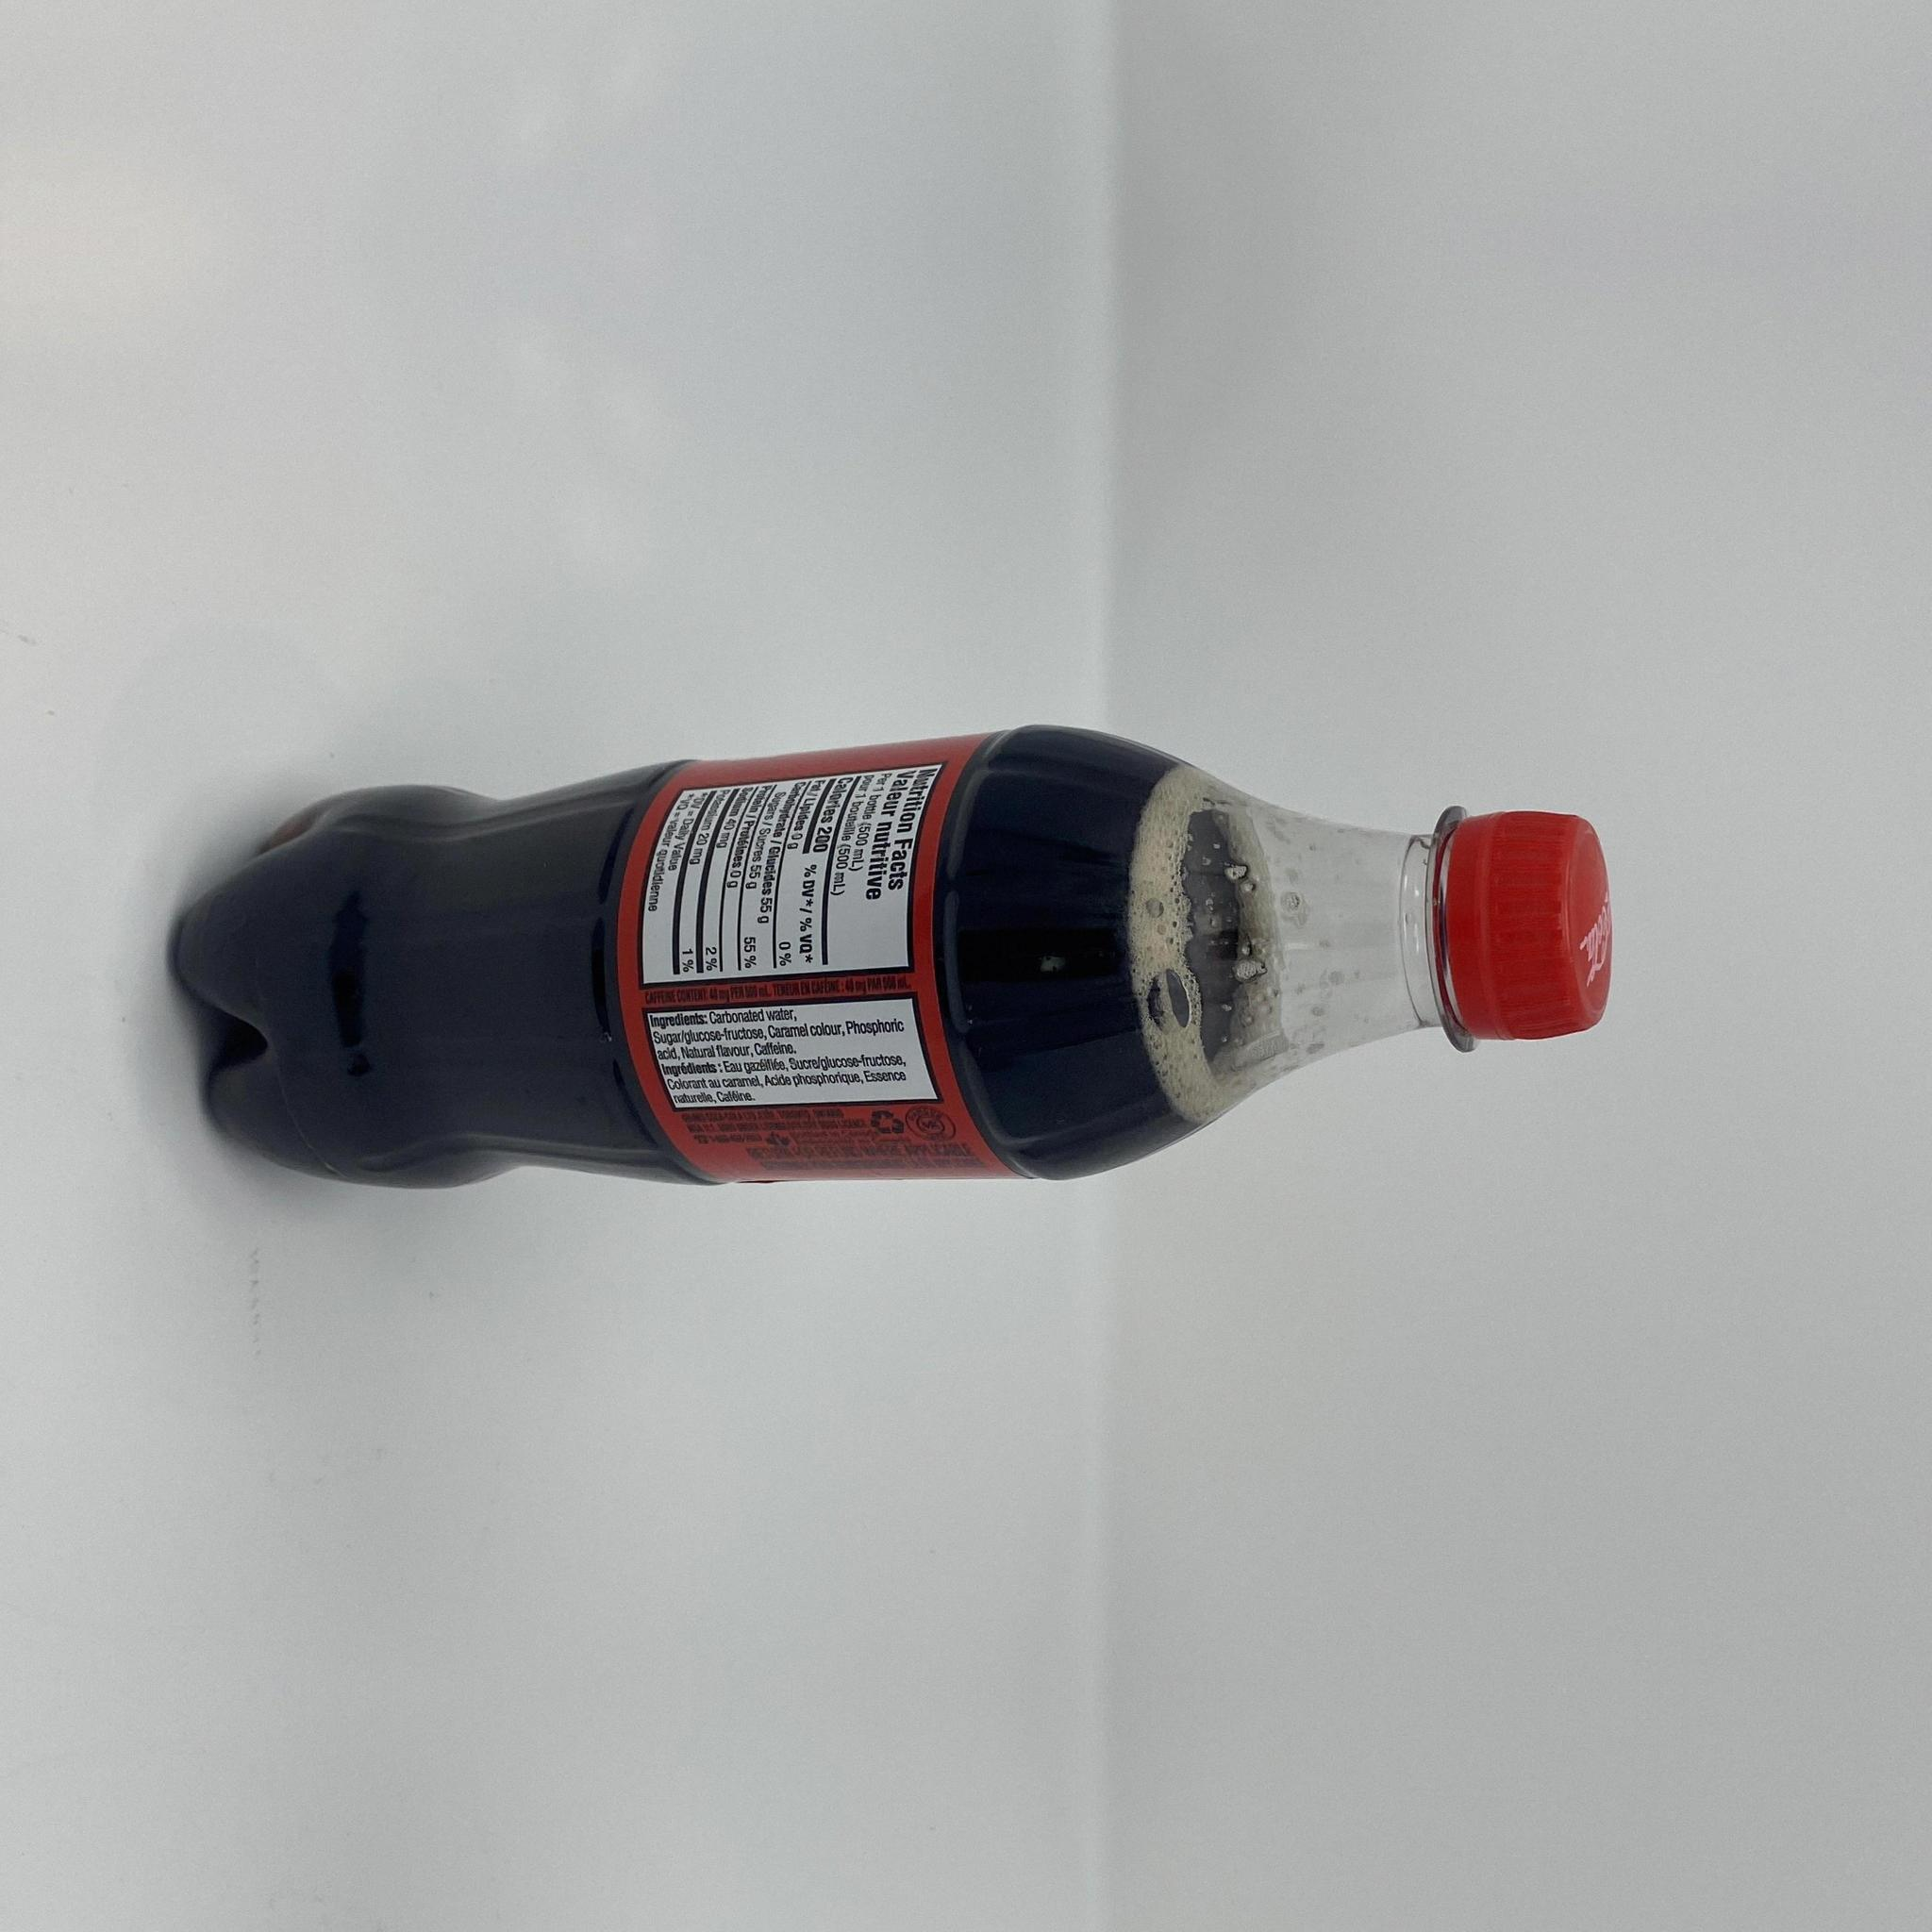PET: (168, 722, 1615, 1191)
cocacola: (168, 722, 1615, 1191)
plastic: (168, 722, 1615, 1191)
soft-drink: (168, 722, 1615, 1191)
